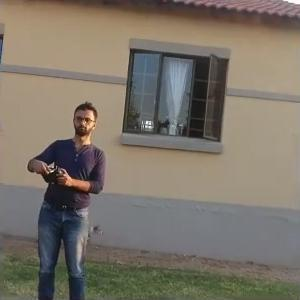follow: (20, 94, 110, 298)
